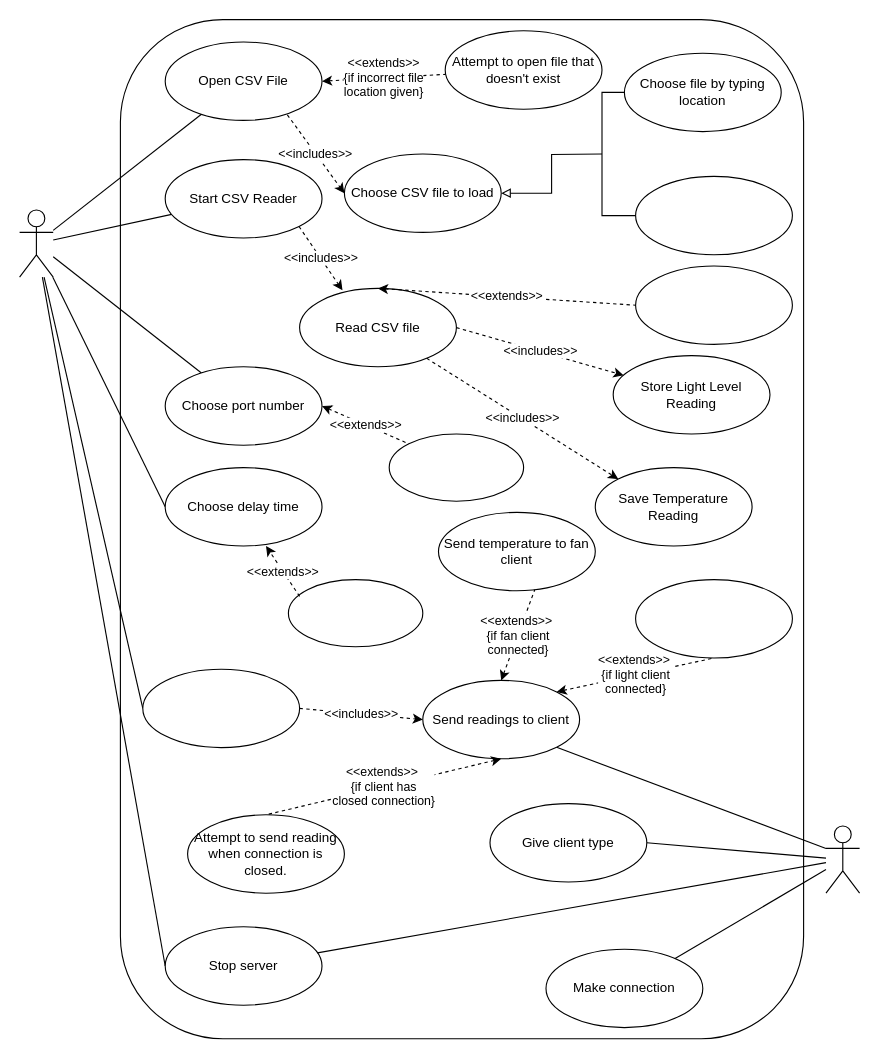
This 879x1058 diagram has some shape labels left out. Here are the shapes that lost their labels. From the top down, the box of each, then its label:
(634, 175, 792, 255): Choose file by browsing
(18, 209, 53, 277): User
(634, 265, 792, 344): Attempt to read file with incorrect headers
(388, 433, 524, 501): Attempt to assign illegal port number
(287, 578, 423, 647): Attempt to assign negative delay time
(634, 578, 792, 658): Send light level to light client
(142, 668, 300, 748): Start server
(825, 825, 860, 893): Client
